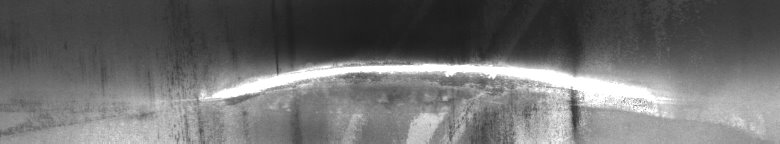ke: (199, 52, 652, 136)
